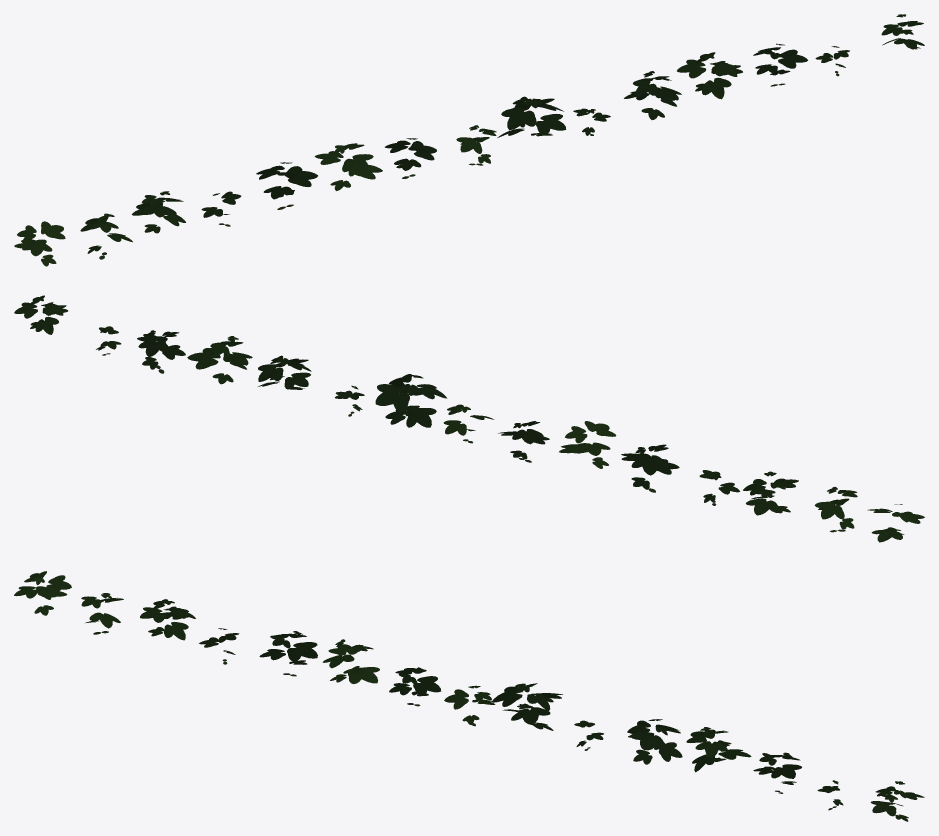
Rendered from ROW_00_SEG1_foliage.dae.
3 views of the same model, one above another, from view 1: azimuth 30°, elevation 25°; view 2: azimuth 150°, elevation 25°; view 3: azimuth 330°, elevation 25° (orthographic).
Visible parts, largest first — view 1: ROW_00_SEG1_foliage; view 2: ROW_00_SEG1_foliage; view 3: ROW_00_SEG1_foliage.
Part boxes in pixels (bbox=[...]): ROW_00_SEG1_foliage: bbox=[14, 14, 924, 266]; ROW_00_SEG1_foliage: bbox=[14, 295, 924, 542]; ROW_00_SEG1_foliage: bbox=[14, 571, 924, 821].
Bounding box in the file's own units: 4.5 × 0.3353 × 0.2529.
